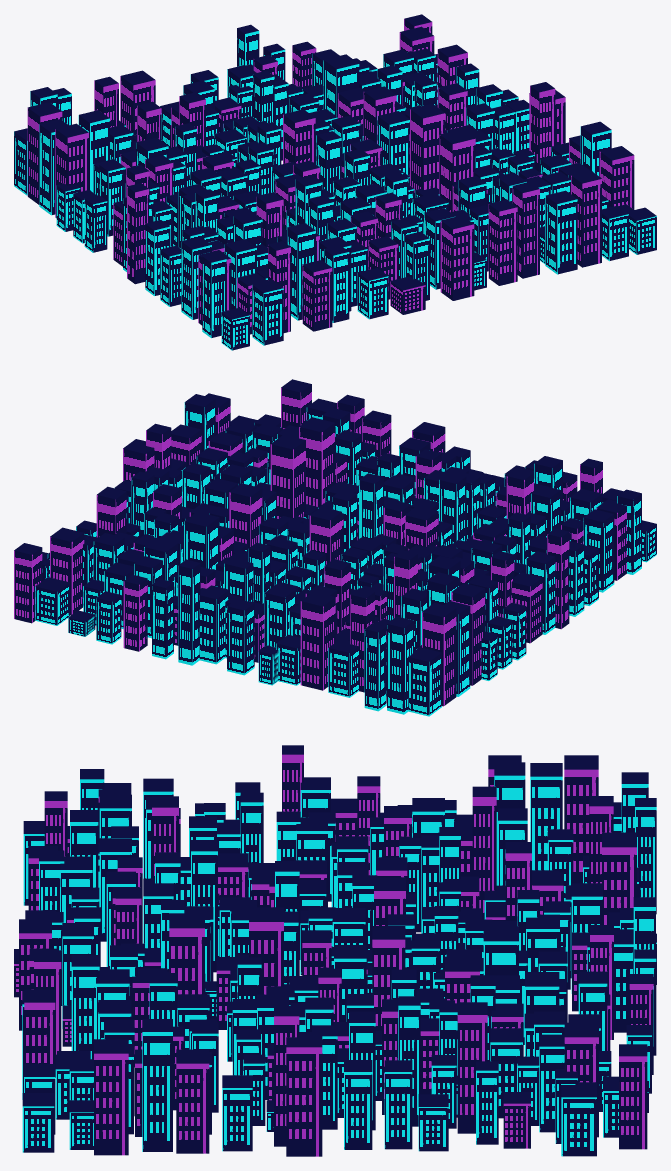
The model's file is Neon CityScape.glb.
3 renders of one model, top to bottom at view 1: azimuth 30°, elevation 25°; view 2: azimuth 150°, elevation 25°; view 3: azimuth 270°, elevation 25°, orthographic. The views are drawn at different scales.
Visible parts, largest first — view 1: City; view 2: City; view 3: City.
Boxes of the visible parts, <box> form: City: <box>14,14,656,350</box>; City: <box>14,379,656,716</box>; City: <box>14,745,656,1156</box>.
Bounding box in the file's own units: 94.34 × 22.38 × 89.53.
Materials: 2 (2 with a texture image).
